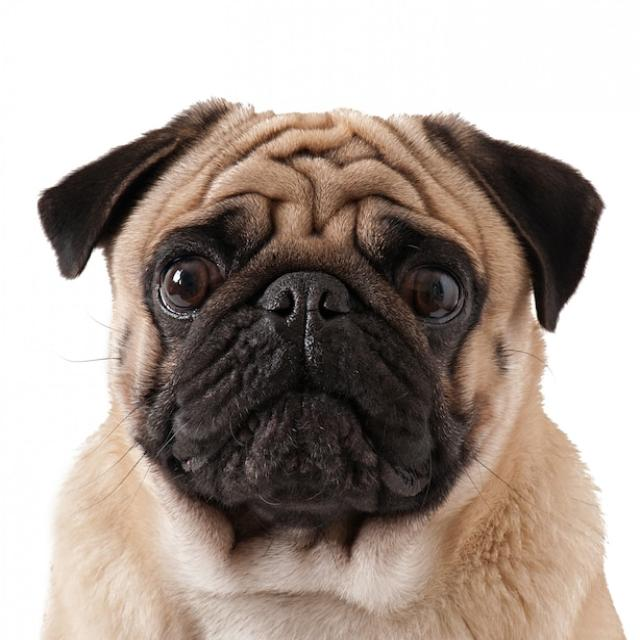Dog: (38, 95, 624, 640)
